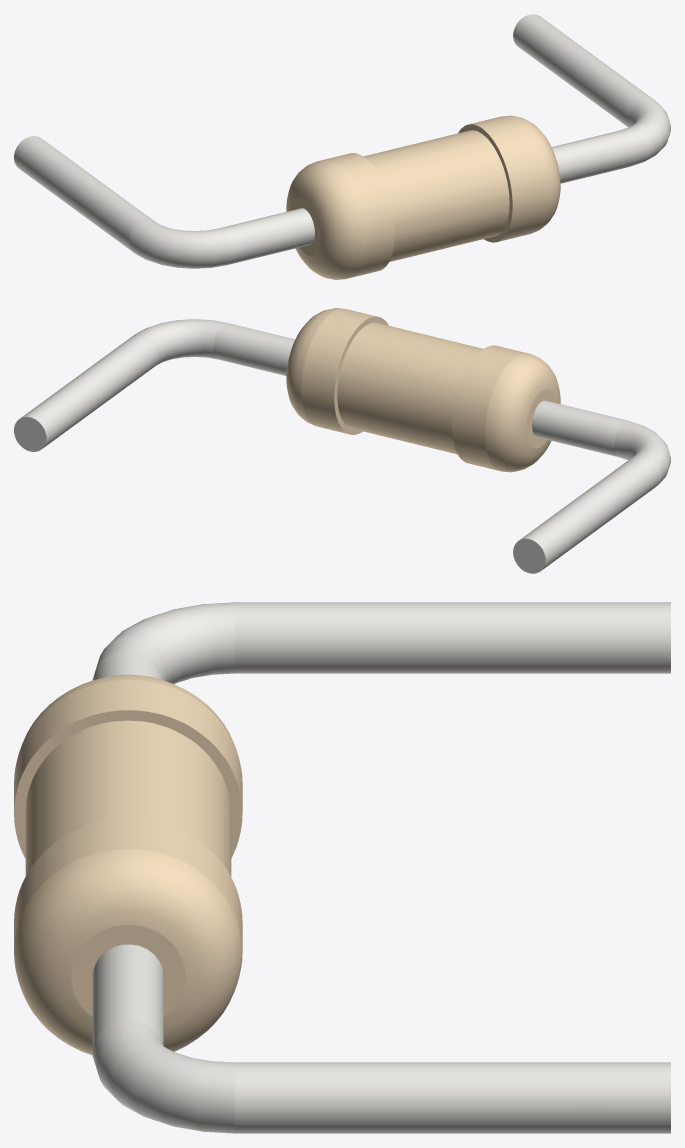
Rendered from R_Axial_DIN0204_L3.6mm_D1.6mm_P7.62mm_Horizontal.glb.
The picture shows the model from 3 angles, top to bottom: view 1: azimuth 30°, elevation 25°; view 2: azimuth 150°, elevation 25°; view 3: azimuth 270°, elevation 25°; orthographic projection. The views are drawn at different scales.
Parts seen in each view (by area): view 1: Shape_IndexedFaceSet.004, Shape_IndexedFaceSet.001, Shape_IndexedFaceSet.009, Shape_IndexedFaceSet.015, Shape_IndexedFaceSet.008, Shape_IndexedFaceSet, Shape_IndexedFaceSet.007, Shape_IndexedFaceSet.005, Shape_IndexedFaceSet.013, Shape_IndexedFaceSet.014, Shape_IndexedFaceSet.010, Shape_IndexedFaceSet.006 (+1 smaller); view 2: Shape_IndexedFaceSet.004, Shape_IndexedFaceSet.001, Shape_IndexedFaceSet.009, Shape_IndexedFaceSet.015, Shape_IndexedFaceSet.008, Shape_IndexedFaceSet, Shape_IndexedFaceSet.005, Shape_IndexedFaceSet.013, Shape_IndexedFaceSet.014, Shape_IndexedFaceSet.007, Shape_IndexedFaceSet.010, Shape_IndexedFaceSet.011 (+3 smaller); view 3: Shape_IndexedFaceSet.009, Shape_IndexedFaceSet.015, Shape_IndexedFaceSet.010, Shape_IndexedFaceSet.004, Shape_IndexedFaceSet.014, Shape_IndexedFaceSet, Shape_IndexedFaceSet.007, Shape_IndexedFaceSet.008, Shape_IndexedFaceSet.013, Shape_IndexedFaceSet.002, Shape_IndexedFaceSet.012, Shape_IndexedFaceSet.005 (+1 smaller).
Boxes of the visible parts, box(x1,y1,x2,y2) form: Shape_IndexedFaceSet.004: box(363, 130, 509, 261); Shape_IndexedFaceSet.001: box(286, 161, 361, 279); Shape_IndexedFaceSet.009: box(14, 136, 154, 252); Shape_IndexedFaceSet.015: box(513, 14, 653, 127); Shape_IndexedFaceSet.008: box(470, 116, 545, 241); Shape_IndexedFaceSet: box(320, 153, 394, 278); Shape_IndexedFaceSet.007: box(129, 220, 232, 268); Shape_IndexedFaceSet.005: box(220, 208, 314, 264); Shape_IndexedFaceSet.013: box(551, 130, 633, 183); Shape_IndexedFaceSet.014: box(620, 98, 670, 166); Shape_IndexedFaceSet.010: box(505, 115, 560, 232); Shape_IndexedFaceSet.006: box(458, 124, 512, 242); Shape_IndexedFaceSet.004: box(337, 322, 483, 454); Shape_IndexedFaceSet.001: box(485, 353, 560, 472); Shape_IndexedFaceSet.009: box(519, 454, 660, 571); Shape_IndexedFaceSet.015: box(20, 332, 161, 448); Shape_IndexedFaceSet.008: box(301, 308, 376, 433); Shape_IndexedFaceSet: box(452, 345, 528, 470); Shape_IndexedFaceSet.005: box(532, 400, 626, 456); Shape_IndexedFaceSet.013: box(213, 323, 295, 375); Shape_IndexedFaceSet.014: box(136, 319, 226, 364); Shape_IndexedFaceSet.007: box(614, 420, 670, 484); Shape_IndexedFaceSet.010: box(286, 308, 341, 425); Shape_IndexedFaceSet.011: box(513, 538, 545, 573); Shape_IndexedFaceSet.009: box(235, 602, 670, 673); Shape_IndexedFaceSet.015: box(235, 1062, 670, 1133); Shape_IndexedFaceSet.010: box(14, 849, 242, 1055); Shape_IndexedFaceSet.004: box(25, 720, 231, 876); Shape_IndexedFaceSet.014: box(92, 1020, 235, 1133); Shape_IndexedFaceSet: box(14, 680, 242, 812); Shape_IndexedFaceSet.007: box(95, 602, 235, 683); Shape_IndexedFaceSet.008: box(14, 818, 242, 950); Shape_IndexedFaceSet.013: box(92, 944, 163, 1047); Shape_IndexedFaceSet.002: box(14, 710, 242, 858); Shape_IndexedFaceSet.012: box(71, 925, 185, 1016); Shape_IndexedFaceSet.005: box(92, 651, 163, 680).
Size of the model in its own units: 3.2 by 0.63 by 1.81.
